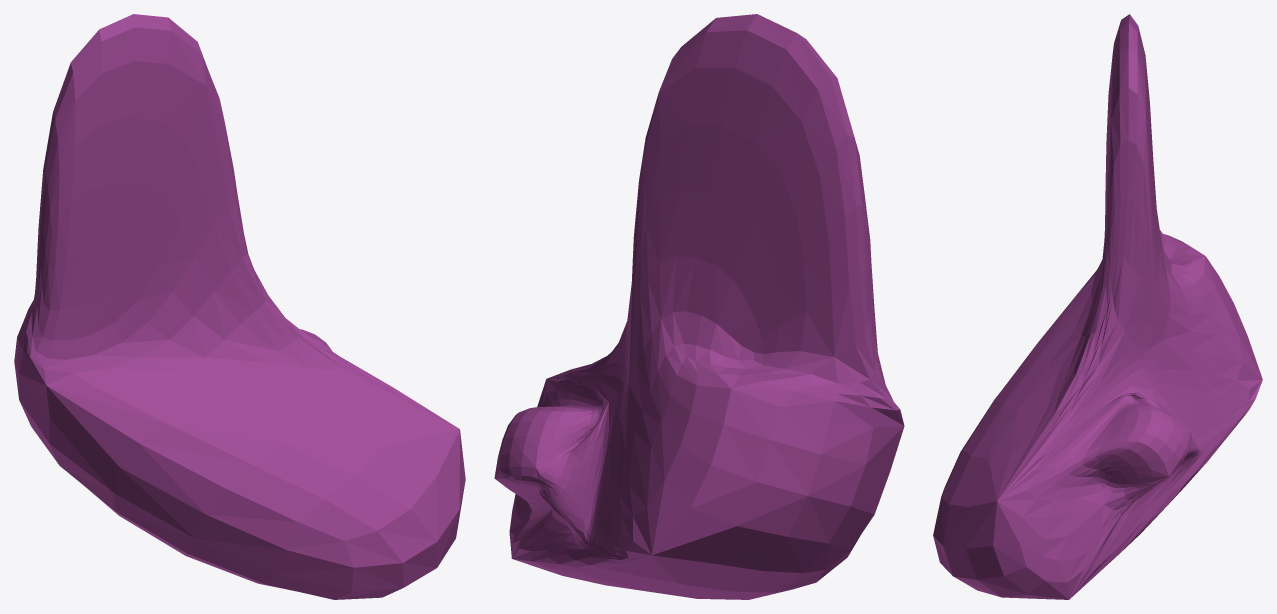
3 views of the same model, side by side, from view 1: azimuth 30°, elevation 25°; view 2: azimuth 150°, elevation 25°; view 3: azimuth 270°, elevation 25° (orthographic). The views are drawn at different scales.
Visible parts, largest first — view 1: 471_Cube.1910; view 2: 471_Cube.1910; view 3: 471_Cube.1910.
Boxes of the visible parts, x1,y1,x2,y2 form: 471_Cube.1910: (14,14,465,599); 471_Cube.1910: (494,14,904,599); 471_Cube.1910: (933,14,1262,599).
Size of the model in its own units: 9.96 by 14.36 by 8.76.
